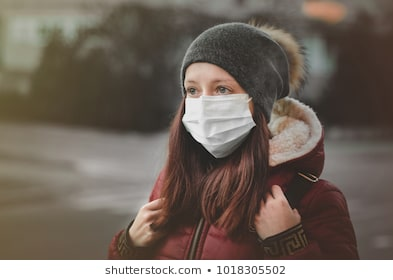with_mask: (179, 44, 271, 159)
